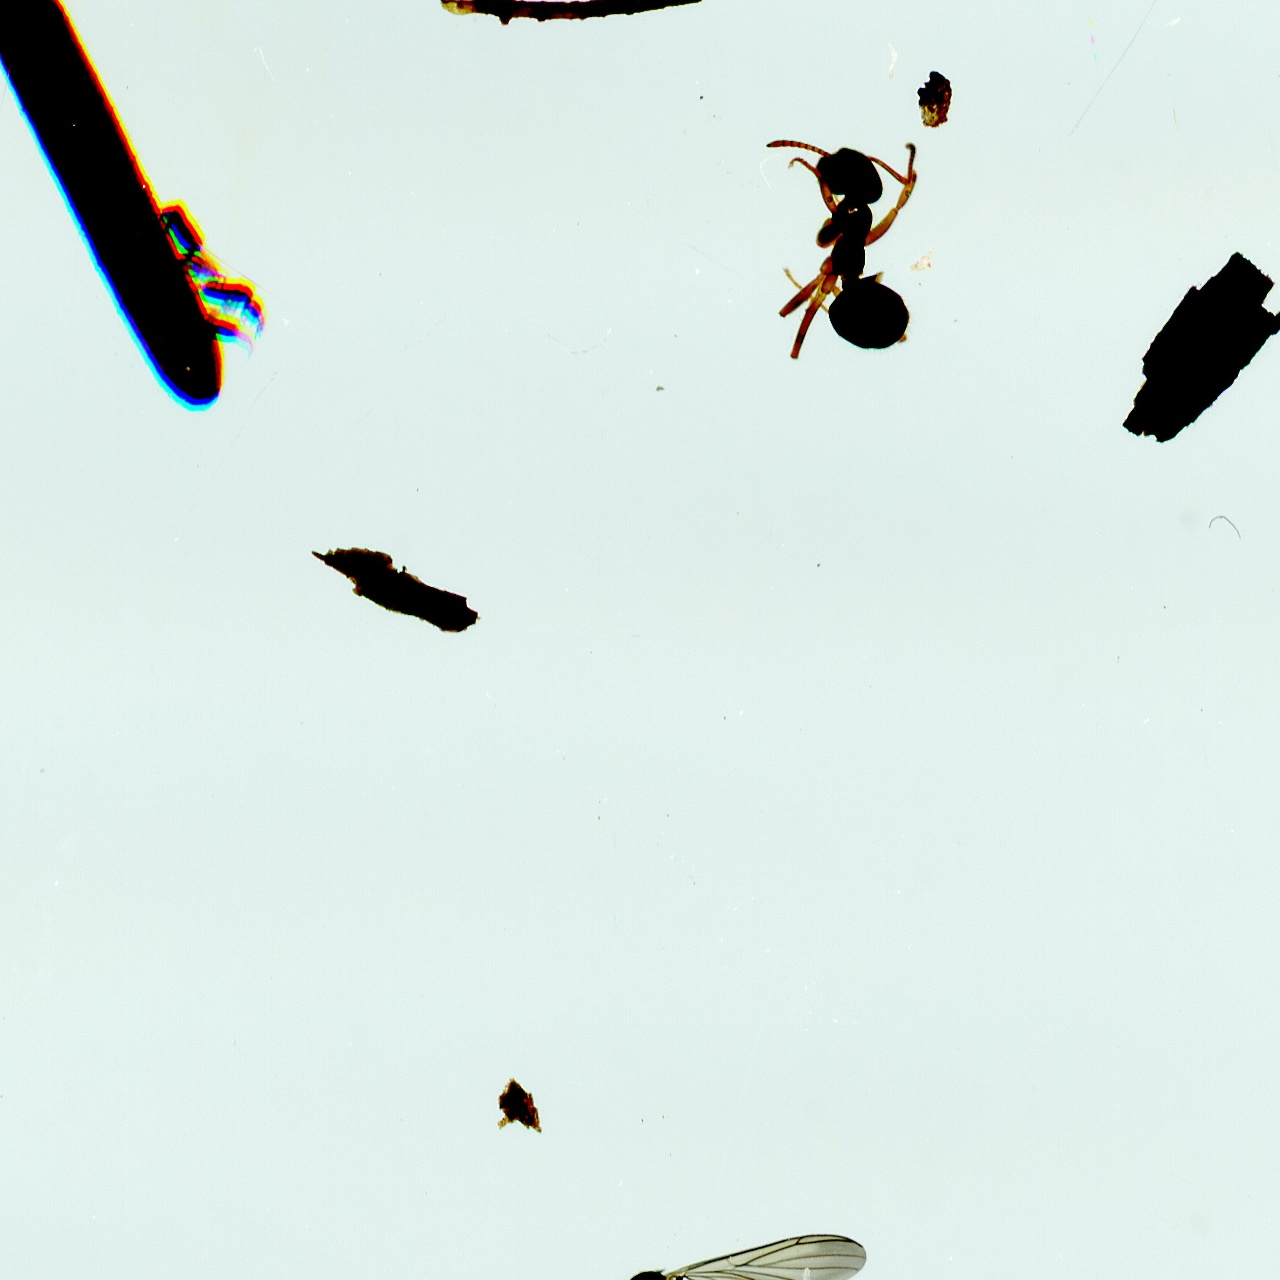arthropod: (765, 132, 925, 369), (548, 1229, 965, 1280), (143, 189, 219, 281), (200, 273, 271, 345), (188, 303, 265, 367), (178, 252, 225, 281)
